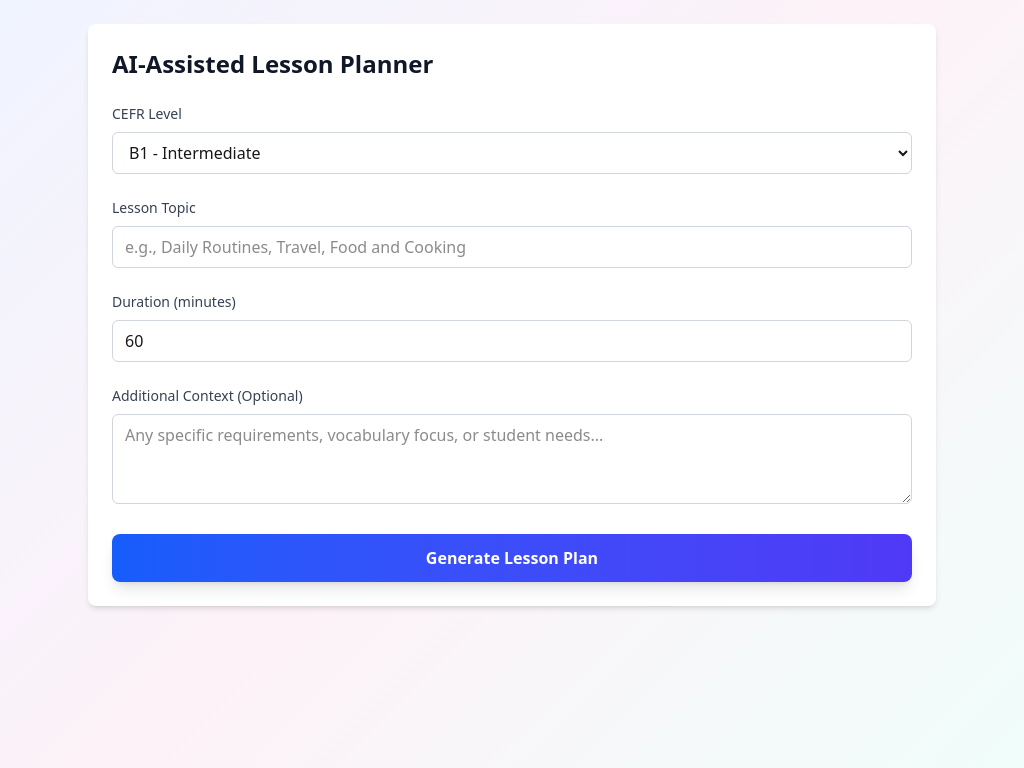
Test case: LessonPlannerForm Component › should display error message when generation fails
Type "Test" into the field labelled "Lesson Topic".
click(512, 247); type("Test")  # box [112, 226, 912, 268]
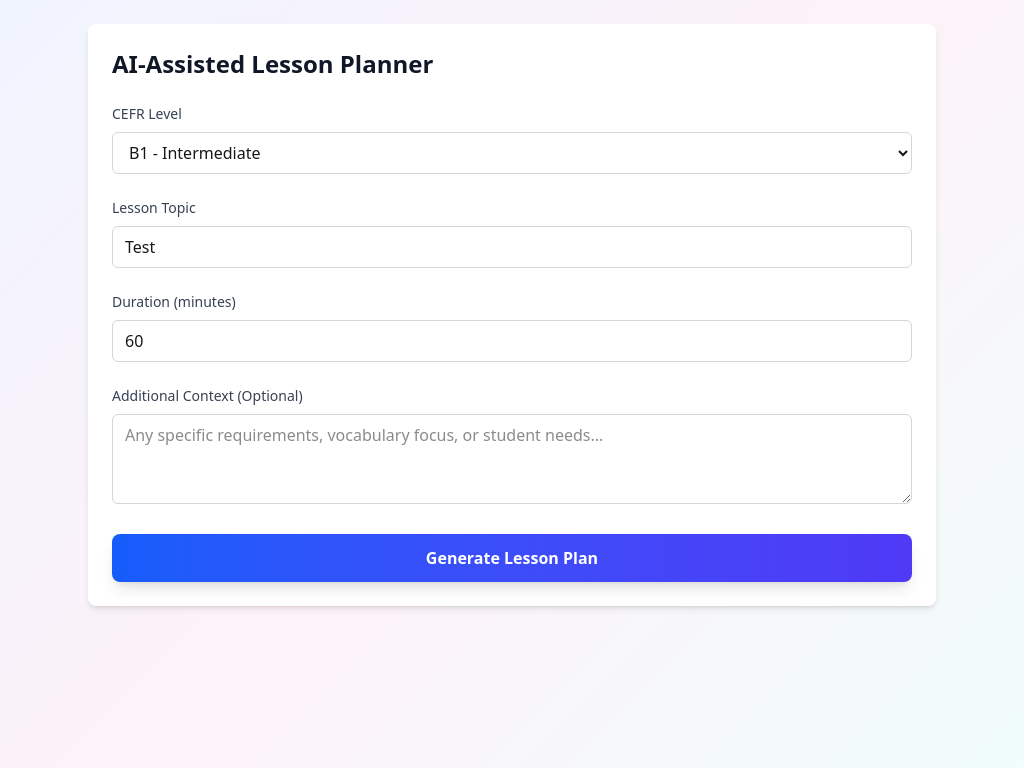
Click the button "Generate Lesson Plan".
click(512, 558)  # box [112, 534, 912, 582]
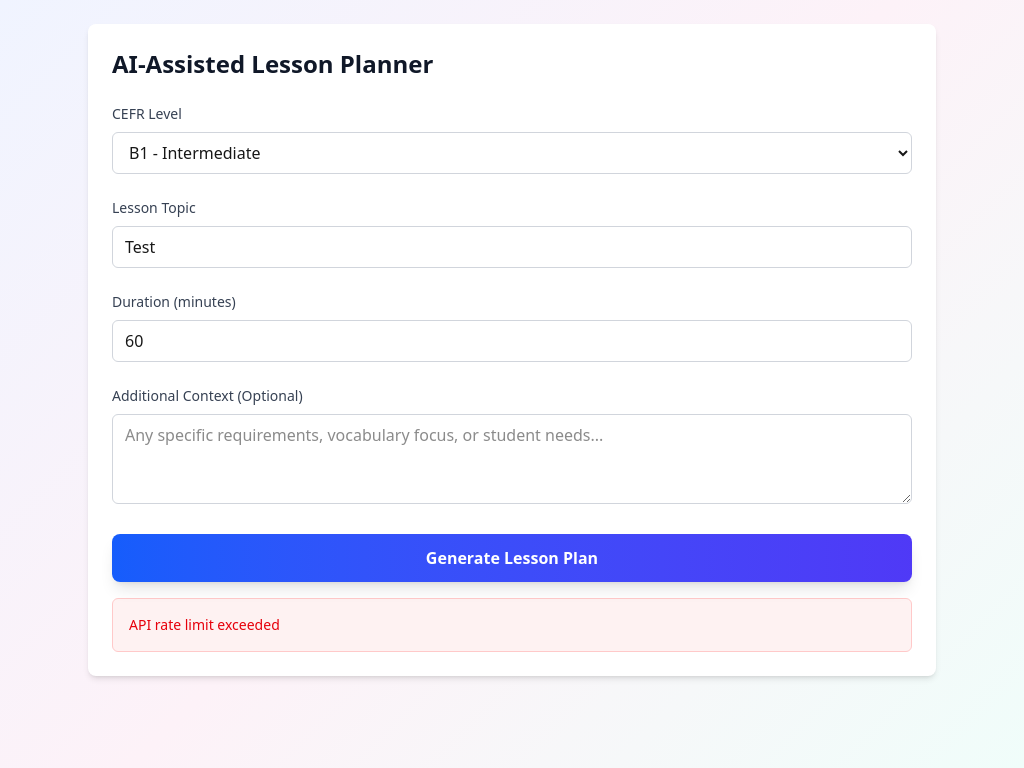
expect the text "API rate limit exceeded" is shown: met, box [129, 615, 280, 634]
